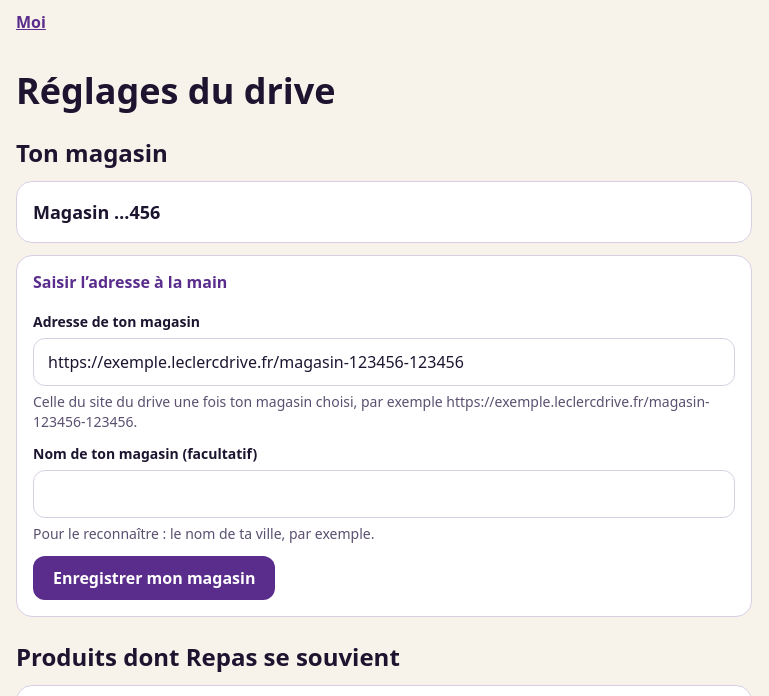
Scenario: réglages du drive : le magasin › prévient quand l’adresse saisie est celle d’un autre magasin
This screenshot has width=769, height=696.
Check: the heading "Réglages du drive" is shown, box [16, 66, 336, 115]
Check: the text "Ce n’est pas ton magasin actuel" is not shown
Replace the text in the field labelled "Adresse de ton magasin" with "https://exemple.leclercdrive.fr/magasin-999000-999000" at x=384, y=362, box [33, 338, 735, 386]
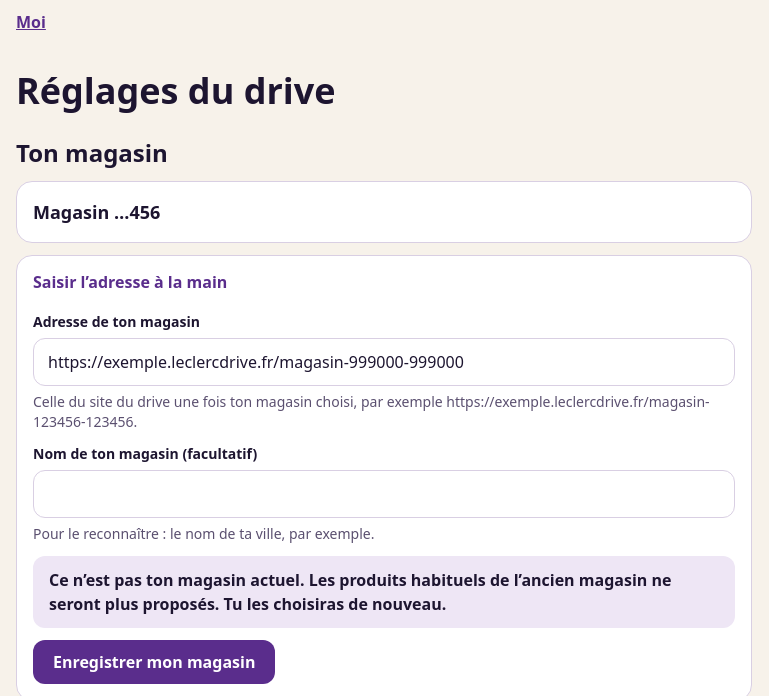
Check: the text "Ce n’est pas ton magasin actuel. Les produits habituels de l’ancien magasin ne seront plus proposés. Tu les choisiras de nouveau." is shown, box [49, 569, 671, 615]
